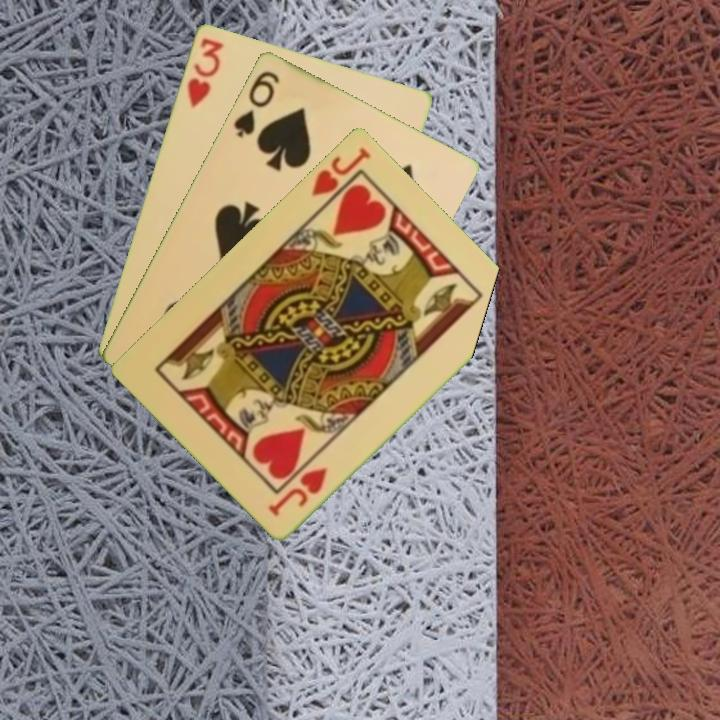3h: (183, 34, 226, 111)
6s: (230, 67, 282, 140)
Jh: (307, 143, 374, 198), (265, 463, 331, 518)
